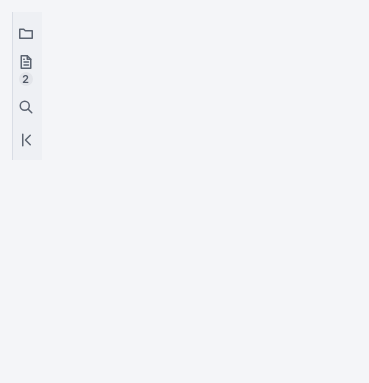
the rail › is all there is while the panel is closed, and pressing a tab opens the panel on it
Click the tab named "Changes, 2" at point(26, 70), box [14, 50, 38, 90]
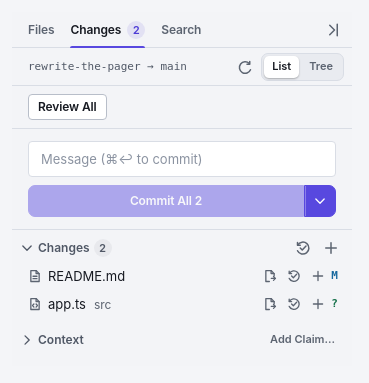
Expected: the element named "Changes in this worktree" is shown
